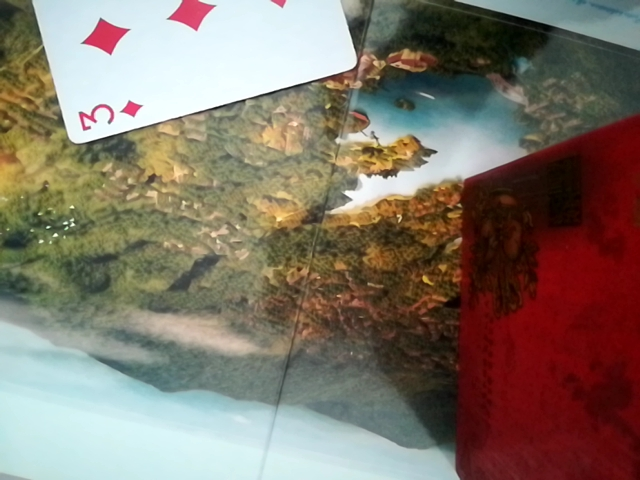fk 3: (16, 0, 360, 150)
